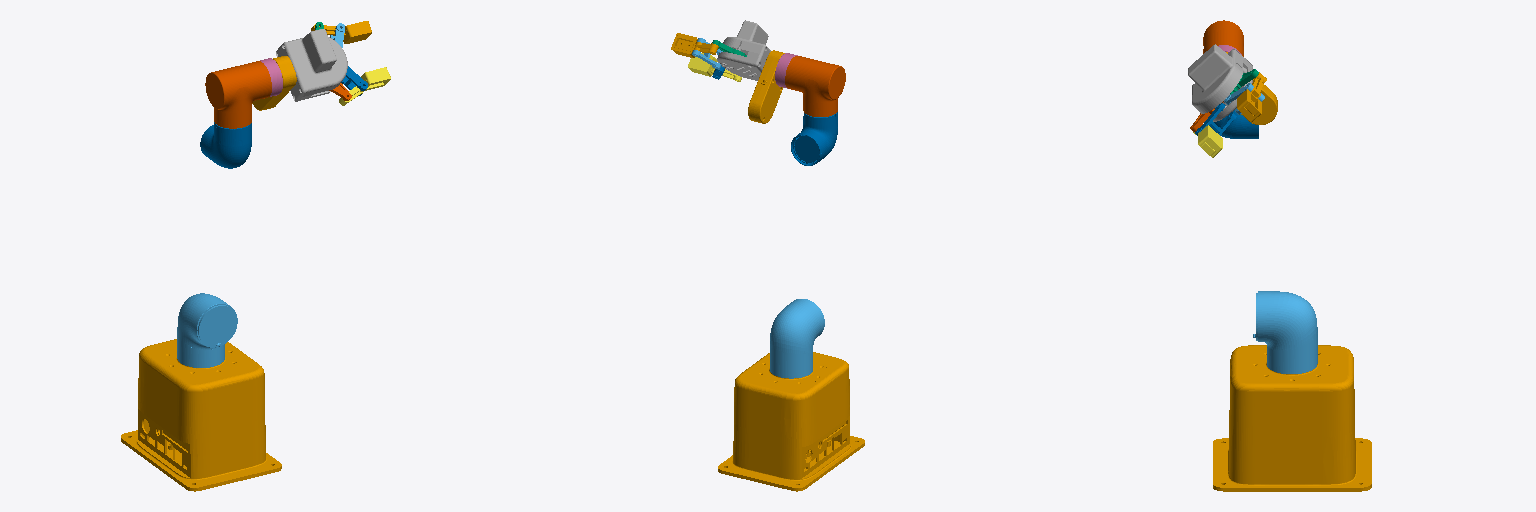
robot.urdf — mycobot_280_jn_adaptive_gripper_camera_gripper:
<?xml version='1.0' encoding='utf-8'?>
<robot name="mycobot_280_jn_adaptive_gripper_camera_gripper">
    <link name="joint1">
        <visual>
            <geometry>
                <mesh filename="../meshes/joint1_jet.stl" />
            </geometry>
            <origin xyz="0.0 0 0 " rpy=" 0 0 3.14159" />
        </visual>
        <inertial>
            <origin xyz="0 0 0" rpy="0 0 0" />
            <mass value="0.420000" />
            <inertia ixx="0.0001512" ixy="0" ixz="0" iyy="0.0001512" iyz="0" izz="0.0001512" />
        </inertial>
    <collision><origin xyz="0.0 0 0 " rpy=" 0 0 3.14159" /><geometry><mesh filename="../meshes/joint1_jet_hull.stl" /></geometry></collision></link>
    <link name="joint2">
        <visual>
            <geometry>
                <mesh filename="../meshes/joint2.stl" />
            </geometry>
            <origin xyz="0.0 0 -0.06096 " rpy=" 0 0 -1.5708" />
        </visual>
        <inertial>
            <origin xyz="0 0 0" rpy="0 0 0" />
            <mass value="0.190000" />
            <inertia ixx="6.84e-05" ixy="0" ixz="0" iyy="6.84e-05" iyz="0" izz="6.84e-05" />
        </inertial>
    <collision><origin xyz="0.0 0 -0.06096 " rpy=" 0 0 -1.5708" /><geometry><mesh filename="../meshes/joint2_hull.stl" /></geometry></collision></link>
    <link name="joint3">
        <visual>
            <geometry>
                <mesh filename="../meshes/joint3.stl" />
            </geometry>
            <origin xyz="0.0 0 0.03256 " rpy=" 0 -1.5708 0" />
        </visual>
        <inertial>
            <origin xyz="0 0 0" rpy="0 0 0" />
            <mass value="0.150000" />
            <inertia ixx="5.4e-05" ixy="0" ixz="0" iyy="5.4e-05" iyz="0" izz="5.4e-05" />
        </inertial>
    <collision><origin xyz="0.0 0 0.03256 " rpy=" 0 -1.5708 0" /><geometry><mesh filename="../meshes/joint3_hull.stl" /></geometry></collision></link>
    <link name="joint4">
        <visual>
            <geometry>
                <mesh filename="../meshes/joint4.stl" />
            </geometry>
            <origin xyz="0.0 0 0.03056 " rpy=" 0 -1.5708 0" />
        </visual>
        <inertial>
            <origin xyz="0 0 0" rpy="0 0 0" />
            <mass value="0.110000" />
            <inertia ixx="3.96e-05" ixy="0" ixz="0" iyy="3.96e-05" iyz="0" izz="3.96e-05" />
        </inertial>
    <collision><origin xyz="0.0 0 0.03056 " rpy=" 0 -1.5708 0" /><geometry><mesh filename="../meshes/joint4_hull.stl" /></geometry></collision></link>
    <link name="joint5">
        <visual>
            <geometry>
                <mesh filename="../meshes/joint5.stl" />
            </geometry>
            <origin xyz="0.0 0 -0.03356 " rpy=" 0 -1.5708 1.5708" />
        </visual>
        <inertial>
            <origin xyz="0 0 0" rpy="0 0 0" />
            <mass value="0.090000" />
            <inertia ixx="3.24e-05" ixy="0" ixz="0" iyy="3.24e-05" iyz="0" izz="3.24e-05" />
        </inertial>
    <collision><origin xyz="0.0 0 -0.03356 " rpy=" 0 -1.5708 1.5708" /><geometry><mesh filename="../meshes/joint5_hull.stl" /></geometry></collision></link>
    <link name="joint6">
        <visual>
            <geometry>
                <mesh filename="../meshes/joint6.stl" />
            </geometry>
            <origin xyz="0 0.00 -0.038 " rpy=" 0 0 0" />
        </visual>
        <inertial>
            <origin xyz="0 0 0" rpy="0 0 0" />
            <mass value="0.050000" />
            <inertia ixx="1.8e-05" ixy="0" ixz="0" iyy="1.8e-05" iyz="0" izz="1.8e-05" />
        </inertial>
    <collision><origin xyz="0 0.00 -0.038 " rpy=" 0 0 0" /><geometry><mesh filename="../meshes/joint6_hull.stl" /></geometry></collision></link>
    <link name="joint6_flange">
        <visual>
            <geometry>
                <mesh filename="../meshes/joint7.stl" />
            </geometry>
            <origin xyz="0.0 0 -0.012 " rpy=" 0 0 0" />
        </visual>
        <inertial>
            <origin xyz="0 0 0" rpy="0 0 0" />
            <mass value="0.020000" />
            <inertia ixx="7.2e-06" ixy="0" ixz="0" iyy="7.2e-06" iyz="0" izz="7.2e-06" />
        </inertial>
    <collision><origin xyz="0.0 0 -0.012 " rpy=" 0 0 0" /><geometry><mesh filename="../meshes/joint7_hull.stl" /></geometry></collision></link>
    <joint name="joint2_to_joint1" type="revolute">
        <axis xyz="0 0 1" />
        <limit effort="1000.0" lower="-2.9321" upper="2.9321" velocity="2.0944" />
        <parent link="joint1" />
        <child link="joint2" />
        <origin xyz="0 0 0.15756" rpy="0 0 0" />
    </joint>
    <joint name="joint3_to_joint2" type="revolute">
        <axis xyz="0 0 1" />
        <limit effort="1000.0" lower="-2.4434" upper="2.4434" velocity="2.0944" />
        <parent link="joint2" />
        <child link="joint3" />
        <origin xyz="0 0 -0.001" rpy="0 1.5708 -1.5708" />
    </joint>
    <joint name="joint4_to_joint3" type="revolute">
        <axis xyz=" 0 0 1" />
        <limit effort="1000.0" lower="-2.6179" upper="2.6179" velocity="2.0944" />
        <parent link="joint3" />
        <child link="joint4" />
        <origin xyz="  -0.1104 0 0   " rpy="0 0 0" />
    </joint>
    <joint name="joint5_to_joint4" type="revolute">
        <axis xyz=" 0 0 1" />
        <limit effort="1000.0" lower="-2.6179" upper="2.6179" velocity="2.0944" />
        <parent link="joint4" />
        <child link="joint5" />
        <origin xyz="-0.096 0 0.06462" rpy="0 0 -1.5708" />
    </joint>
    <joint name="joint6_to_joint5" type="revolute">
        <axis xyz="0 0 1" />
        <limit effort="1000.0" lower="-2.7052" upper="2.7925" velocity="2.0944" />
        <parent link="joint5" />
        <child link="joint6" />
        <origin xyz="0 -0.07318 0" rpy="1.5708 -1.5708 0" />
    </joint>
    <joint name="joint6output_to_joint6" type="revolute">
        <axis xyz="0 0 1" />
        <limit effort="1000.0" lower="-3.14159" upper="3.14159" velocity="2.0944" />
        <parent link="joint6" />
        <child link="joint6_flange" />
        <origin xyz="0 0.0456 0" rpy="-1.5708 0 0" />
    </joint>
    <joint name="joint6output_to_gripper_base" type="fixed">
        <parent link="tool_mount" />
        <child link="gripper_base" />
        <origin xyz="0 0 0.051" rpy="1.579 0 0" />
    </joint>
    <link name="gripper_base">
        <visual>
            <geometry>
                <mesh filename="../meshes/gripper_base.stl" />
            </geometry>
            <origin xyz="0.0 0 -0.012 " rpy=" 0 0 0" />
        </visual>
        <inertial>
            <origin xyz="0 0 0" rpy="0 0 0" />
            <mass value="0.062000" />
            <inertia ixx="2.232e-05" ixy="0" ixz="0" iyy="2.232e-05" iyz="0" izz="2.232e-05" />
        </inertial>
    <collision><origin xyz="0.0 0 -0.012 " rpy=" 0 0 0" /><geometry><mesh filename="../meshes/gripper_base_hull.stl" /></geometry></collision></link>
    <link name="gripper_left1">
        <visual>
            <geometry>
                <mesh filename="../meshes/gripper_left1.stl" />
            </geometry>
            <origin xyz="0.039 -0.0133 -0.012 " rpy=" 0 0 0" />
        </visual>
        <inertial>
            <origin xyz="0 0 0" rpy="0 0 0" />
            <mass value="0.008000" />
            <inertia ixx="2.88e-06" ixy="0" ixz="0" iyy="2.88e-06" iyz="0" izz="2.88e-06" />
        </inertial>
    <collision><origin xyz="0.039 -0.0133 -0.012 " rpy=" 0 0 0" /><geometry><mesh filename="../meshes/gripper_left1_hull.stl" /></geometry></collision></link>
    <link name="gripper_left2">
        <visual>
            <geometry>
                <mesh filename="../meshes/gripper_left2.stl" />
            </geometry>
            <origin xyz="0.005 -0.0195 -0.012 " rpy=" 0 0 0" />
        </visual>
        <inertial>
            <origin xyz="0 0 0" rpy="0 0 0" />
            <mass value="0.008000" />
            <inertia ixx="2.88e-06" ixy="0" ixz="0" iyy="2.88e-06" iyz="0" izz="2.88e-06" />
        </inertial>
    <collision><origin xyz="0.005 -0.0195 -0.012 " rpy=" 0 0 0" /><geometry><mesh filename="../meshes/gripper_left2_hull.stl" /></geometry></collision></link>
    <link name="gripper_left3">
        <visual>
            <geometry>
                <mesh filename="../meshes/gripper_left3.stl" />
            </geometry>
            <origin xyz="0.012 0.0025 -0.012 " rpy=" 0 0 0" />
        </visual>
        <inertial>
            <origin xyz="0 0 0" rpy="0 0 0" />
            <mass value="0.008000" />
            <inertia ixx="2.88e-06" ixy="0" ixz="0" iyy="2.88e-06" iyz="0" izz="2.88e-06" />
        </inertial>
    <collision><origin xyz="0.012 0.0025 -0.012 " rpy=" 0 0 0" /><geometry><mesh filename="../meshes/gripper_left3_hull.stl" /></geometry></collision></link>
    <link name="gripper_right1">
        <visual>
            <geometry>
                <mesh filename="../meshes/gripper_right1.stl" />
            </geometry>
            <origin xyz="-0.039 -0.0133 -0.012 " rpy=" 0 0 0" />
        </visual>
        <inertial>
            <origin xyz="0 0 0" rpy="0 0 0" />
            <mass value="0.008000" />
            <inertia ixx="2.88e-06" ixy="0" ixz="0" iyy="2.88e-06" iyz="0" izz="2.88e-06" />
        </inertial>
    <collision><origin xyz="-0.039 -0.0133 -0.012 " rpy=" 0 0 0" /><geometry><mesh filename="../meshes/gripper_right1_hull.stl" /></geometry></collision></link>
    <link name="gripper_right2">
        <visual>
            <geometry>
                <mesh filename="../meshes/gripper_right2.stl" />
            </geometry>
            <origin xyz="-0.005 -0.0195 -0.012 " rpy=" 0 0 0" />
        </visual>
        <inertial>
            <origin xyz="0 0 0" rpy="0 0 0" />
            <mass value="0.008000" />
            <inertia ixx="2.88e-06" ixy="0" ixz="0" iyy="2.88e-06" iyz="0" izz="2.88e-06" />
        </inertial>
    <collision><origin xyz="-0.005 -0.0195 -0.012 " rpy=" 0 0 0" /><geometry><mesh filename="../meshes/gripper_right2_hull.stl" /></geometry></collision></link>
    <link name="gripper_right3">
        <visual>
            <geometry>
                <mesh filename="../meshes/gripper_right3.stl" />
            </geometry>
            <origin xyz="-0.012 0.0025 -0.012 " rpy=" 0 0 0" />
        </visual>
        <inertial>
            <origin xyz="0 0 0" rpy="0 0 0" />
            <mass value="0.008000" />
            <inertia ixx="2.88e-06" ixy="0" ixz="0" iyy="2.88e-06" iyz="0" izz="2.88e-06" />
        </inertial>
    <collision><origin xyz="-0.012 0.0025 -0.012 " rpy=" 0 0 0" /><geometry><mesh filename="../meshes/gripper_right3_hull.stl" /></geometry></collision></link>
    <joint name="gripper_controller" type="fixed">
        <parent link="gripper_base" />
        <child link="gripper_left3" />
        <origin xyz="-0.012 0.005 0" rpy="0 0 0" />
    </joint>
    <joint name="gripper_base_to_gripper_left2" type="fixed">
        <parent link="gripper_base" />
        <child link="gripper_left2" />
        <origin xyz="-0.005 0.027 0" rpy="0 0 0" />
    </joint>
    <joint name="gripper_left3_to_gripper_left1" type="fixed">
        <parent link="gripper_left3" />
        <child link="gripper_left1" />
        <origin xyz="-0.027 0.016 0" rpy="0 0 0" />
    </joint>
    <joint name="gripper_base_to_gripper_right3" type="fixed">
        <parent link="gripper_base" />
        <child link="gripper_right3" />
        <origin xyz="0.012 0.005 0" rpy="0 0 0" />
    </joint>
    <joint name="gripper_base_to_gripper_right2" type="fixed">
        <parent link="gripper_base" />
        <child link="gripper_right2" />
        <origin xyz="0.005 0.027 0" rpy="0 0 0" />
    </joint>
    <joint name="gripper_right3_to_gripper_right1" type="fixed">
        <parent link="gripper_right3" />
        <child link="gripper_right1" />
        <origin xyz="0.027 0.016 0" rpy="0 0 0" />
    </joint>
<link name="tool_mount"><inertial><origin xyz="0 0 0" rpy="0 0 0" /><mass value="0.000100" /><inertia ixx="3.6e-08" ixy="0" ixz="0" iyy="3.6e-08" iyz="0" izz="3.6e-08" /></inertial></link><joint name="joint6_flange_to_tool_mount" type="fixed"><parent link="joint6_flange" /><child link="tool_mount" /><origin xyz="0 0 0" rpy="0 0 0.785398" /></joint><link name="camera_mount"><inertial><origin xyz="0 0 0" rpy="0 0 0" /><mass value="0.000100" /><inertia ixx="3.6e-08" ixy="0" ixz="0" iyy="3.6e-08" iyz="0" izz="3.6e-08" /></inertial></link><joint name="joint6_flange_to_camera_mount" type="fixed"><parent link="tool_mount" /><child link="camera_mount" /><origin xyz="0 0 0" rpy="0 0 1.5708" /></joint><link name="camera_flange"><inertial><origin xyz="0.024 -0.008 0.0" rpy="0 0 0" /><mass value="0.060000" /><inertia ixx="2.16e-05" ixy="0" ixz="0" iyy="2.16e-05" iyz="0" izz="2.16e-05" /></inertial><visual><origin xyz="0.024 -0.008 0.0" rpy="0 3.14159 0" /><geometry><mesh filename="../meshes/camera_flange.stl" /></geometry></visual><collision><origin xyz="0.024 -0.008 0.0" rpy="0 3.14159 0" /><geometry><mesh filename="../meshes/camera_flange_hull.stl" /></geometry></collision></link><joint name="camera_mount_to_camera_flange" type="fixed"><parent link="camera_mount" /><child link="camera_flange" /><origin xyz="0 0 0.01" rpy="1.579 0 0" /></joint><link name="camera_link"><inertial><origin xyz="0 0 0" rpy="0 0 0" /><mass value="0.000100" /><inertia ixx="3.6e-08" ixy="0" ixz="0" iyy="3.6e-08" iyz="0" izz="3.6e-08" /></inertial></link><joint name="camera_mount_to_camera_link" type="fixed"><parent link="camera_mount" /><child link="camera_link" /><origin xyz="0.0415 0 0.0181" rpy="0 0 0" /></joint><link name="tcp"><inertial><origin xyz="0 0 0" rpy="0 0 0" /><mass value="0.000100" /><inertia ixx="3.6e-08" ixy="0" ixz="0" iyy="3.6e-08" iyz="0" izz="3.6e-08" /></inertial></link><joint name="joint6_flange_to_tcp" type="fixed"><parent link="tool_mount" /><child link="tcp" /><origin xyz="0 0 0.096" rpy="0 0 0" /></joint></robot>

--- Render facts (derived) ---
The picture shows the robot from 3 angles, left to right: view 1: azimuth 30°, elevation 25°; view 2: azimuth 150°, elevation 25°; view 3: azimuth 270°, elevation 25°; orthographic projection.
Robot: mycobot_280_jn_adaptive_gripper_camera_gripper — 19 links, 18 joints (6 revolute, 12 fixed); root link joint1; default pose: every joint at zero.
Links seen in each view (by area): view 1: joint1, joint2, gripper_base, joint6, joint5, camera_flange, gripper_right1, gripper_left1; view 2: joint1, joint2, joint6, gripper_base, joint5, camera_flange, gripper_left1; view 3: joint1, joint2, gripper_base, joint6, gripper_left1, joint5, camera_flange, gripper_right1.
Link boxes in pixels (x1,y1,x2,y2): joint1: (121, 339, 281, 491); joint2: (177, 293, 237, 367); gripper_base: (276, 29, 347, 101); joint6: (205, 61, 271, 128); joint5: (200, 122, 251, 168); camera_flange: (252, 56, 296, 110); gripper_right1: (339, 67, 390, 105); gripper_left1: (311, 21, 371, 43); joint1: (718, 352, 864, 491); joint2: (770, 299, 824, 378); joint6: (785, 56, 845, 116); gripper_base: (717, 20, 770, 80); joint5: (791, 112, 837, 165); camera_flange: (748, 50, 784, 123); gripper_left1: (671, 33, 718, 57); joint1: (1213, 345, 1371, 491); joint2: (1253, 291, 1317, 373); gripper_base: (1188, 44, 1252, 121); joint6: (1203, 20, 1243, 56); gripper_left1: (1237, 72, 1266, 121); joint5: (1209, 110, 1258, 138); camera_flange: (1226, 52, 1277, 124); gripper_right1: (1193, 125, 1222, 157).
Bounding box of the posed robot: 0.2263 × 0.173 × 0.4804 m (x, y, z).
Meshes: 15 distinct files referenced, 13 mesh visuals loaded (13 binary STL); not drawn: 2 (reference not matched to a file when rendering).
